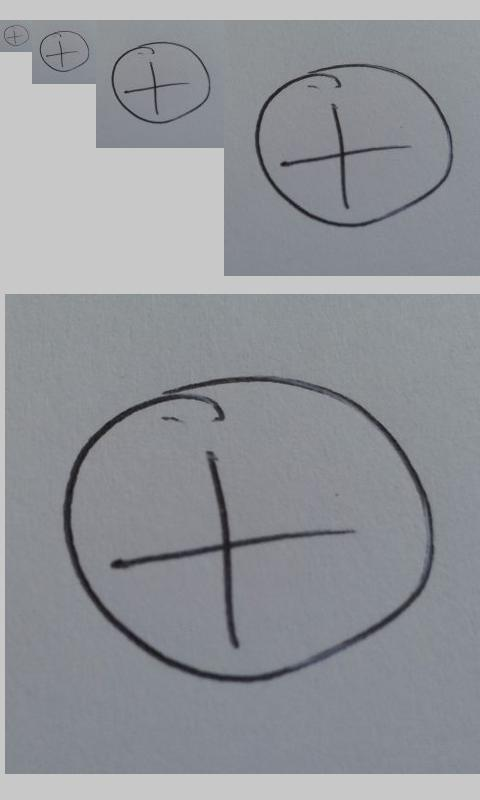button: (60, 375, 437, 686), (254, 63, 454, 228), (111, 41, 212, 125), (39, 30, 90, 73), (3, 24, 30, 47)
